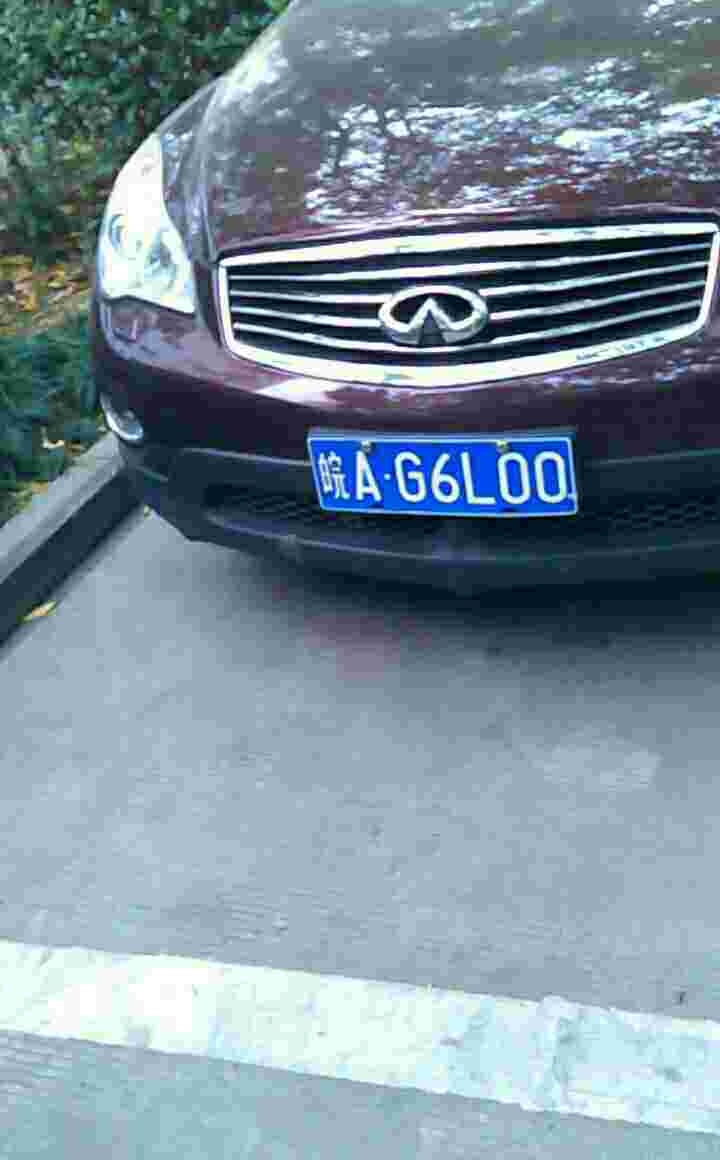license_plate: (315, 432, 595, 522)
